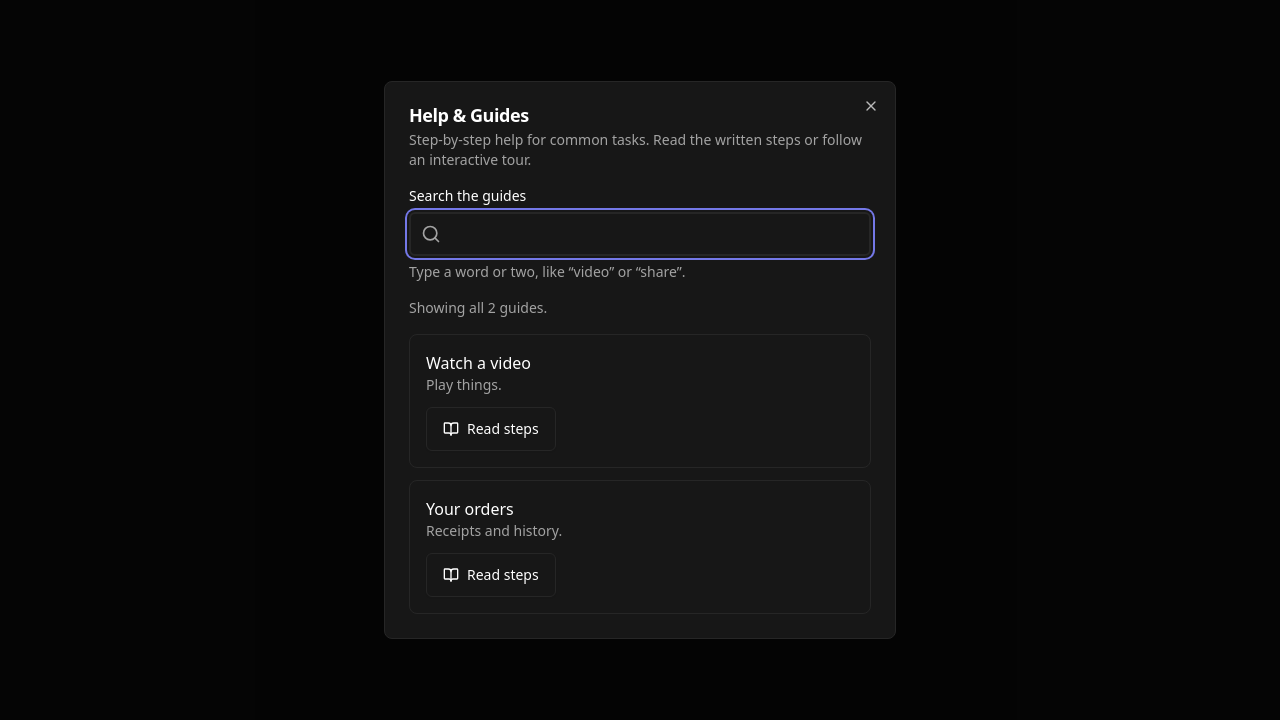
Test case: GuidesLauncher search › filters the guides as you type
This screenshot has width=1280, height=720.
Step 1. Type "receipt" into the search field → [640, 234], box 409,212 -> 871,256
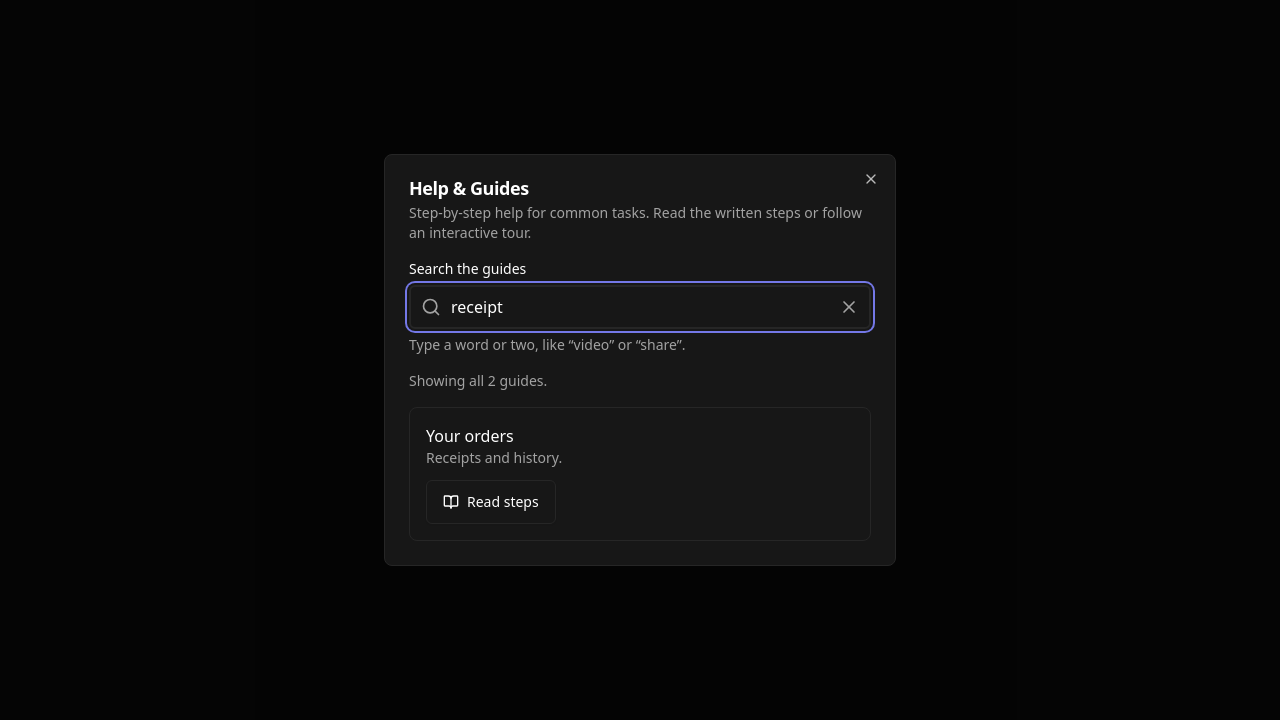
Check: the heading "Your orders" is shown, box 426,425 -> 514,447
Check: the heading "Watch a video" is gone
